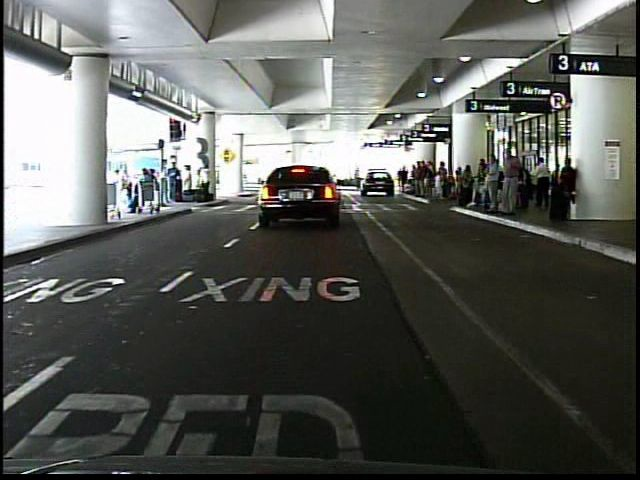person: (496, 141, 525, 221), (550, 151, 579, 226), (530, 153, 553, 211), (113, 161, 133, 217), (482, 153, 501, 211), (168, 155, 183, 203), (198, 158, 212, 200), (183, 161, 196, 201)
